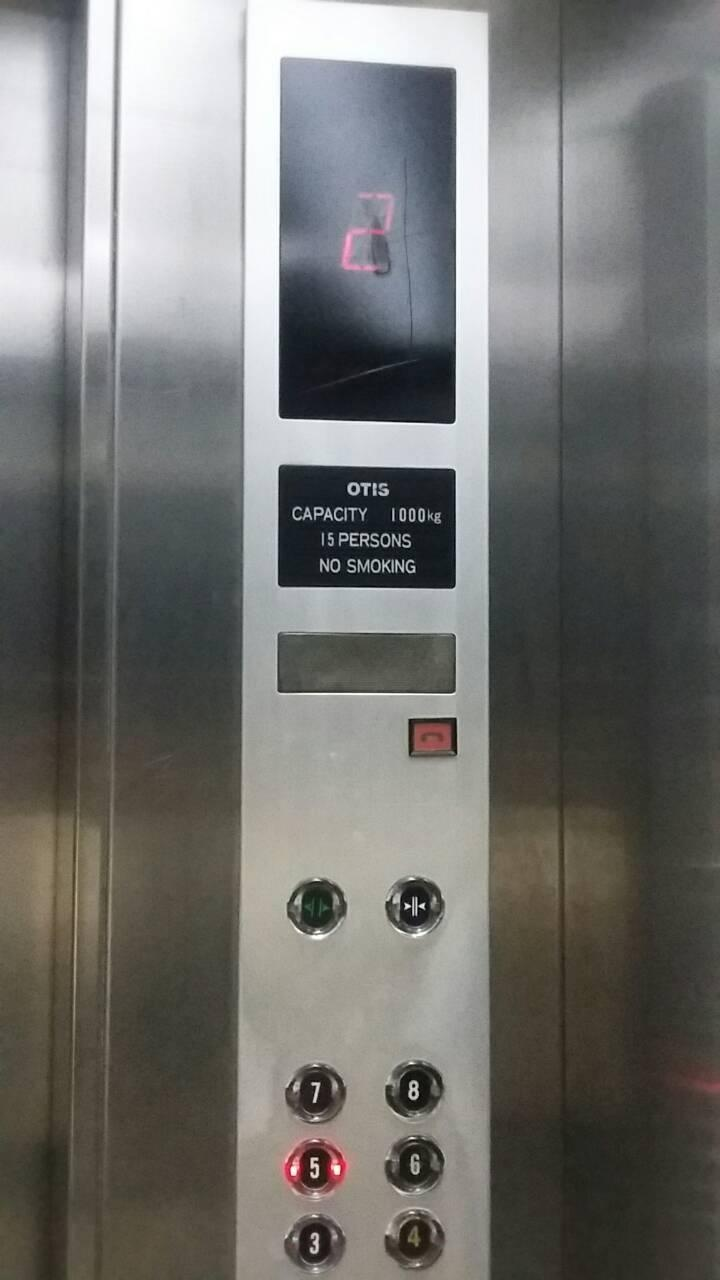3: (281, 1210, 349, 1275)
4: (381, 1207, 447, 1273)
5: (281, 1134, 349, 1203)
6: (383, 1132, 447, 1199)
7: (283, 1060, 349, 1126)
8: (382, 1056, 447, 1123)
alarm: (406, 714, 460, 758)
close: (382, 870, 448, 941)
led: (272, 49, 462, 432)
open: (283, 874, 349, 942)
